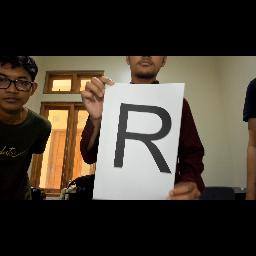r: (112, 98, 178, 182)
